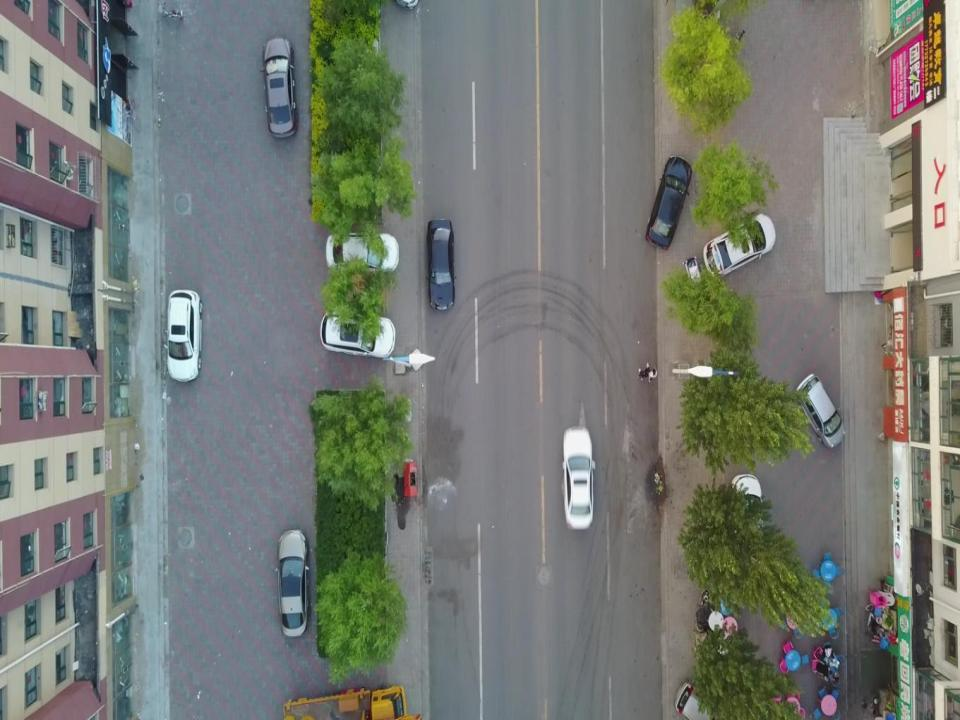car: (642, 149, 696, 250), (702, 208, 778, 277), (793, 367, 850, 452), (558, 420, 599, 534), (274, 528, 310, 642), (164, 284, 205, 384), (320, 305, 394, 359), (261, 34, 297, 137), (426, 211, 458, 312), (324, 231, 400, 273), (729, 471, 765, 543), (672, 675, 716, 717)
truck: (283, 687, 412, 720)
